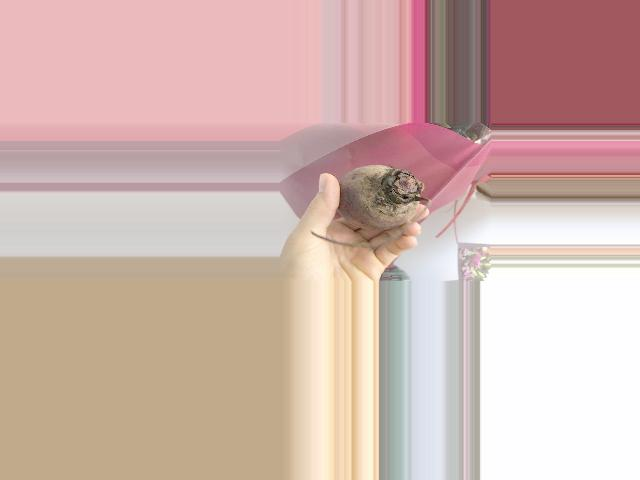beet: (310, 165, 432, 247)
